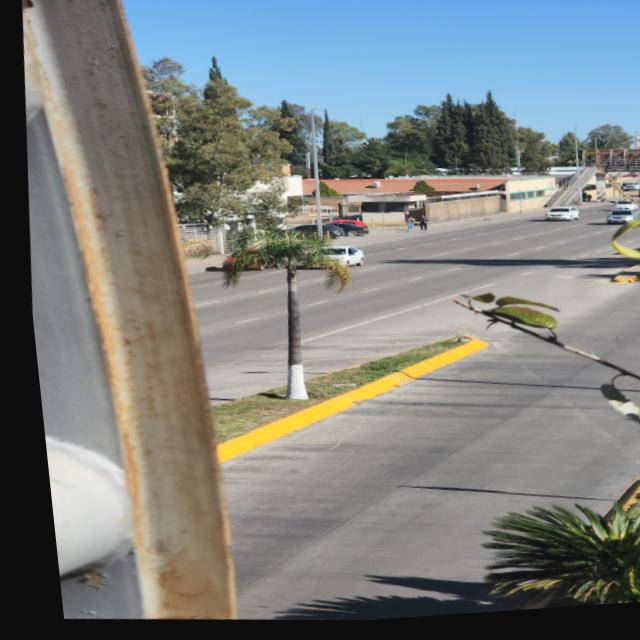Auto: (317, 247, 360, 274), (318, 223, 363, 244), (537, 212, 575, 231), (601, 211, 631, 233)
